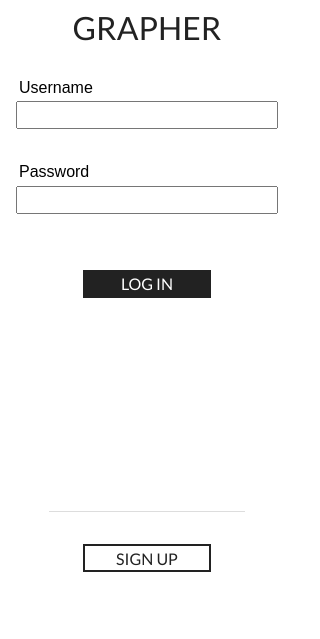
Test: Home › should switch to log in on sign up success
# navigate to sign up
Click the button "Sign Up": (147, 558) [83,544,211,572]
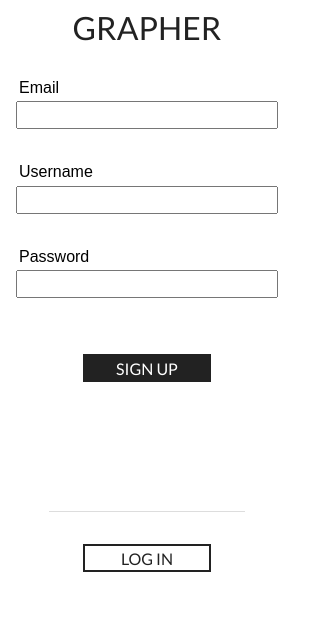
# fill out sign up form
In the 1st field named "email": (147, 115) [16,101,278,129], type "user@gmail.com"
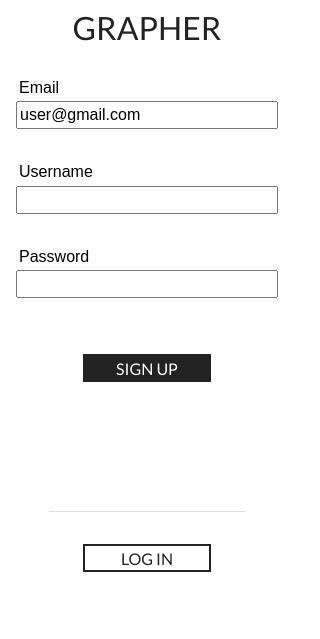
In the 2nd field named "username": (147, 200) [16,186,278,214], type "username"
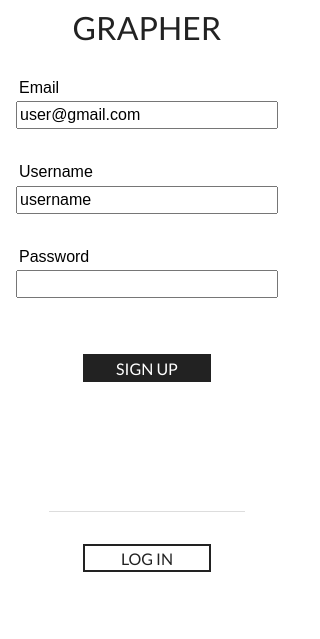
In the password field named "password": (147, 284) [16,270,278,298], type "password"
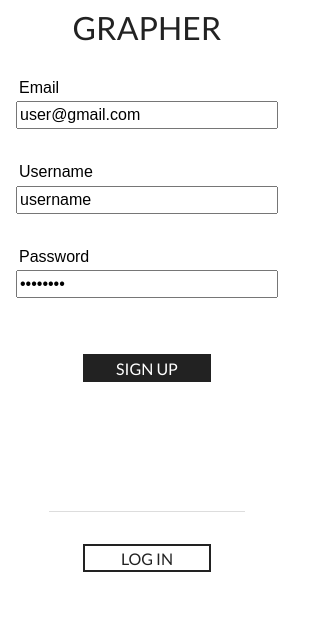
Submit the form from the submit button, box [83,354,211,382]
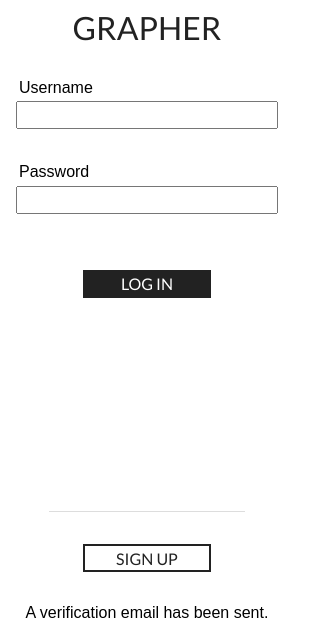
Now the text "A verification email has been sent." is shown, box [26,604,268,622]
Now the form is shown, box [16,79,278,298]
